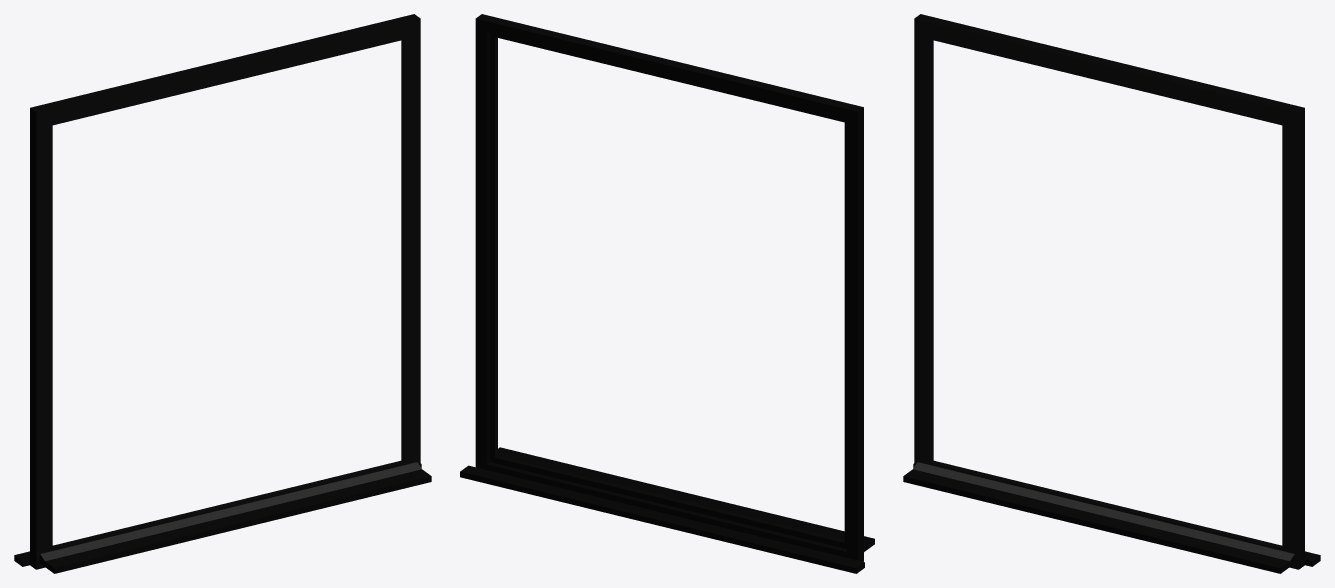
Rendered from Window.gltf.
The picture shows the model from 3 angles, left to right: view 1: azimuth 30°, elevation 25°; view 2: azimuth 150°, elevation 25°; view 3: azimuth 330°, elevation 25°; orthographic projection.
Visible parts, largest first — view 1: Window; view 2: Window; view 3: Window.
Part boxes in pixels (bbox=[...]): Window: bbox=[14, 14, 431, 573]; Window: bbox=[460, 14, 874, 573]; Window: bbox=[903, 14, 1320, 573].
Size of the model in its own units: 2.2 by 2.41 by 0.28.
Materials: 4 (1 with a texture image).
